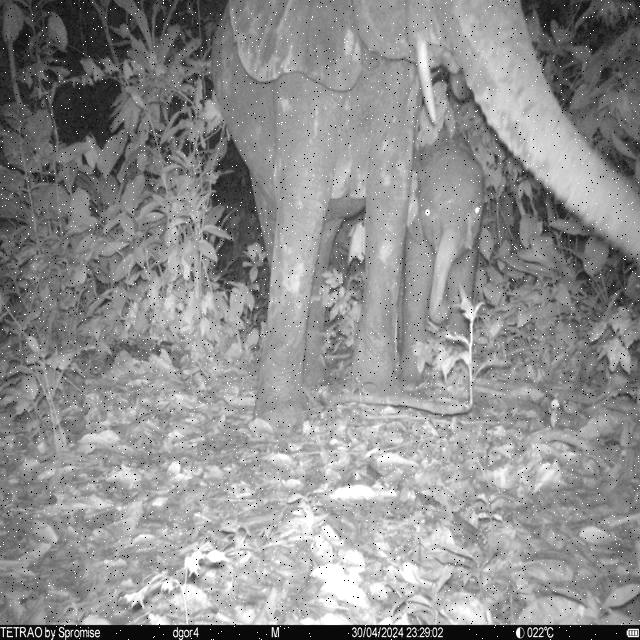calf: (399, 142, 486, 394)
ear: (228, 1, 366, 95)
elephant: (211, 0, 640, 437)
tusk: (412, 44, 438, 124)
